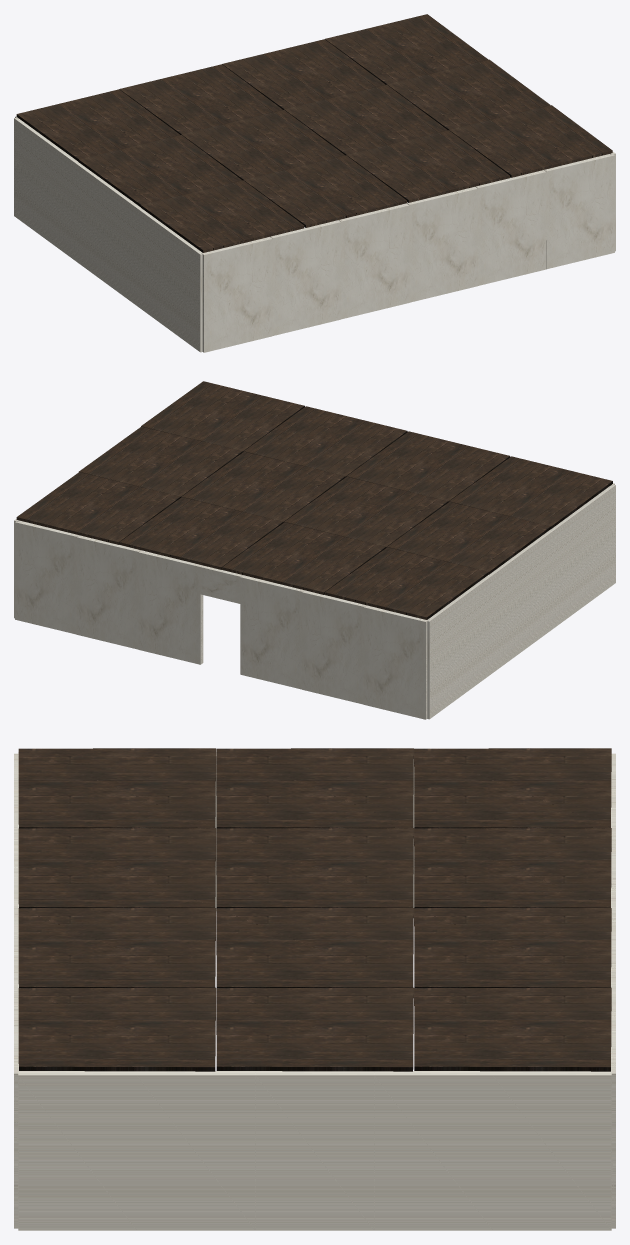
File: int-shell-domestic-narrow-a.glb
3 renders of one model, top to bottom at view 1: azimuth 30°, elevation 25°; view 2: azimuth 150°, elevation 25°; view 3: azimuth 270°, elevation 25°, orthographic. The views are drawn at different scales.
Parts seen in each view (by area): view 1: ceiling_backing_00_00; view 2: ceiling_backing_00_00; view 3: ceiling_backing_00_00.
Part boxes in pixels (x1,y1,x2,y2): ceiling_backing_00_00: [14, 14, 615, 352]; ceiling_backing_00_00: [14, 381, 615, 719]; ceiling_backing_00_00: [14, 748, 615, 1230].
Size of the model in its own units: 14.16 by 3.3 by 11.16.
Materials: 2 (2 with a texture image).
